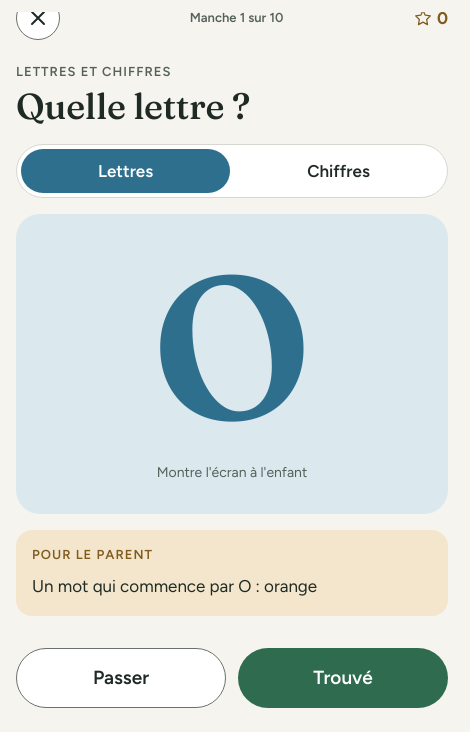
Test: avec « réduire les animations », pas d’étoile qui vole, le compteur reste juste
The width and height of the screenshot is (470, 732).
(page scrolled)
Click the button "Trouvé" at {"x": 343, "y": 678}, box [238,648,448,708]
(page scrolled)
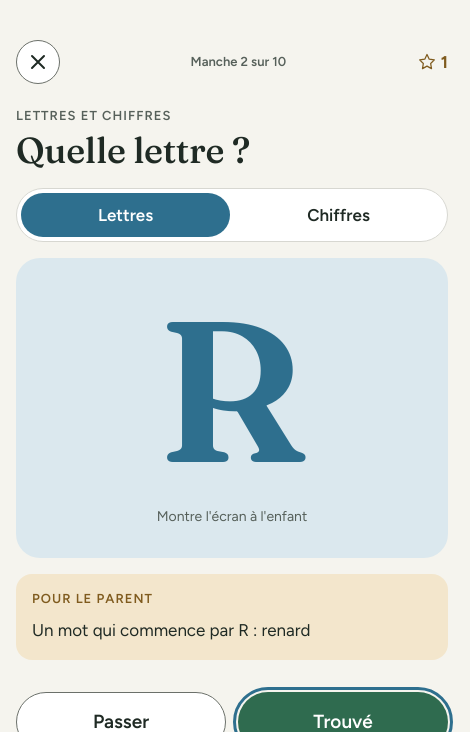
Check: the element named "1 étoile" is shown, box [417,48,448,76]
Check: the text "Manche 2 sur 10" is shown, box [191,53,286,71]
